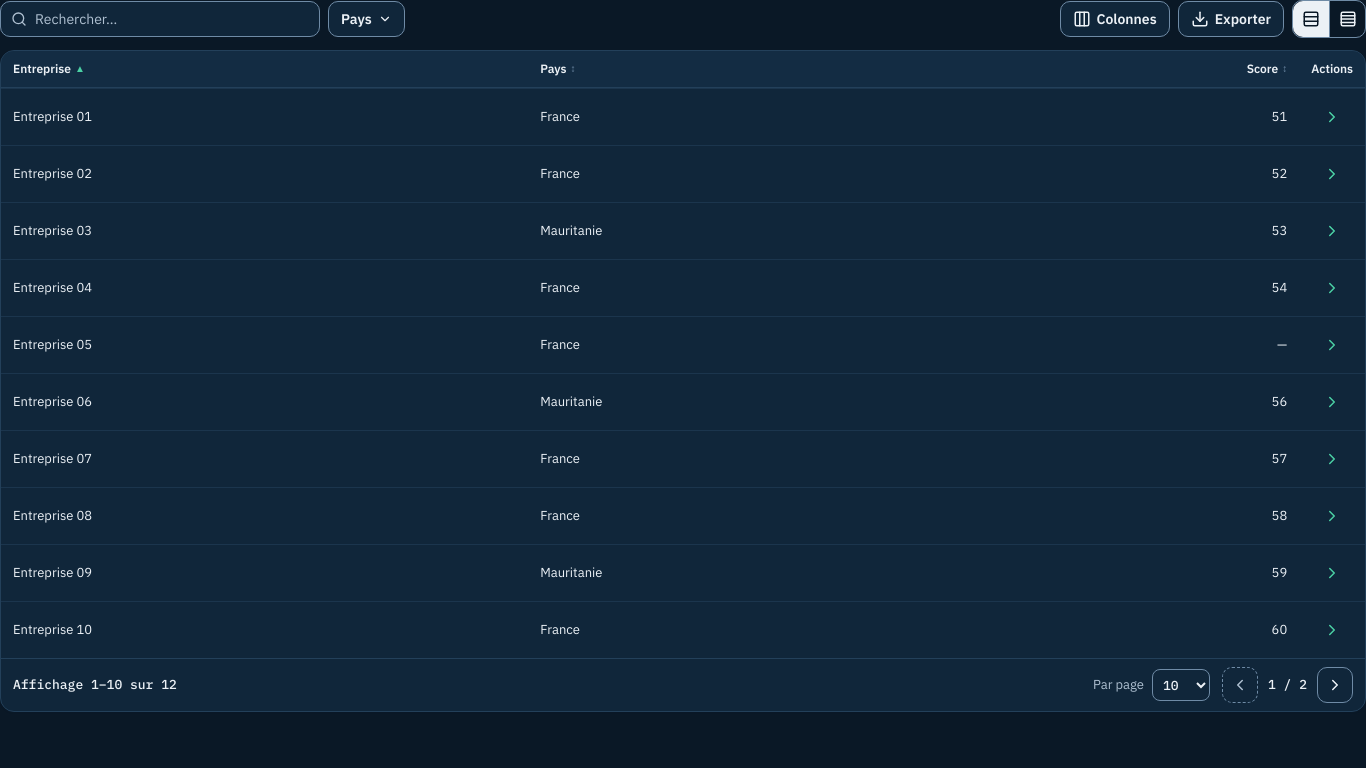
Scenario: DataTable › filtre à choix multiples, avec réinitialisation
Click the button "Pays". click: (366, 19)
box: x1=328 y1=1 x2=405 y2=37
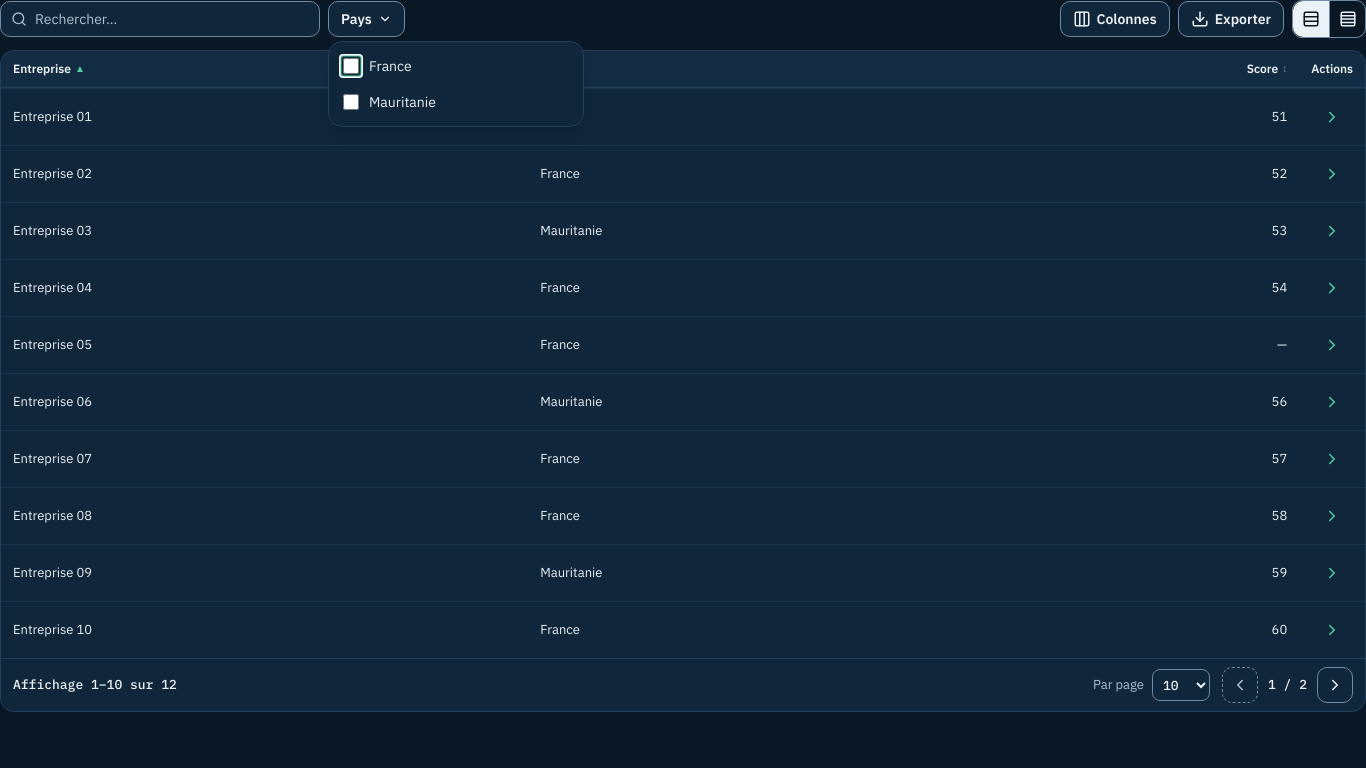
Click the checkbox labelled "Mauritanie". click: (351, 102)
box: x1=343 y1=94 x2=359 y2=110
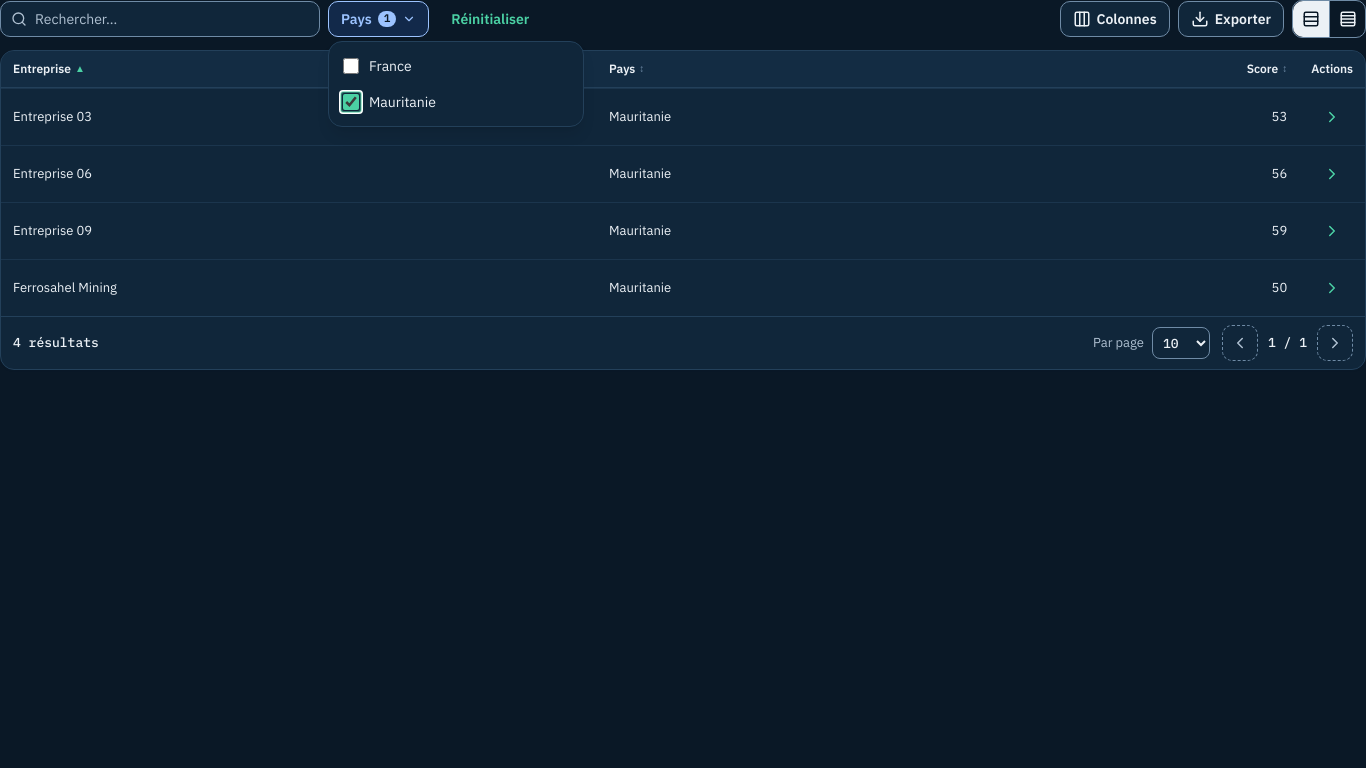
Now the text "4 résultats" is shown, box x1=13 y1=333 x2=99 y2=353
Click the button "Réinitialiser". click: (490, 19)
box: x1=437 y1=1 x2=543 y2=37
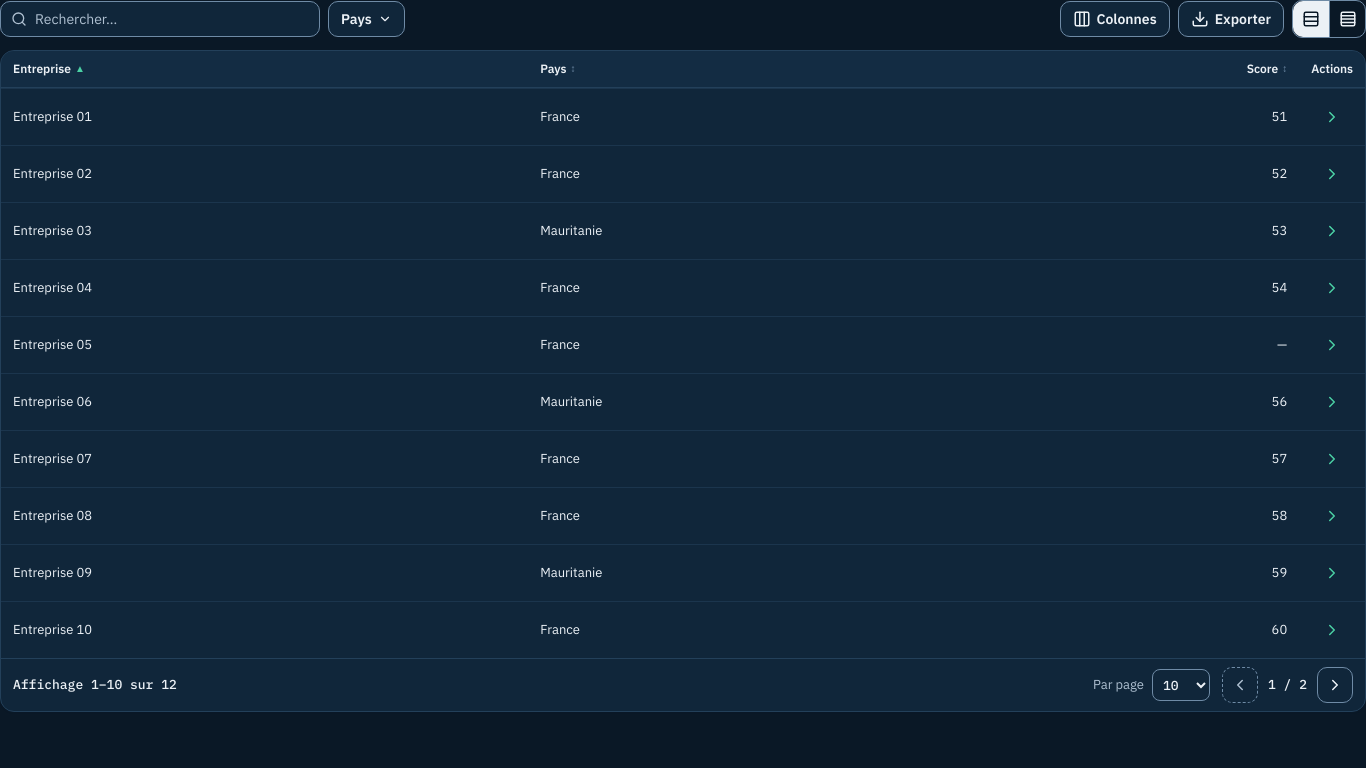
Now the text "Affichage 1–10 sur 12" is shown, box x1=13 y1=675 x2=177 y2=695
